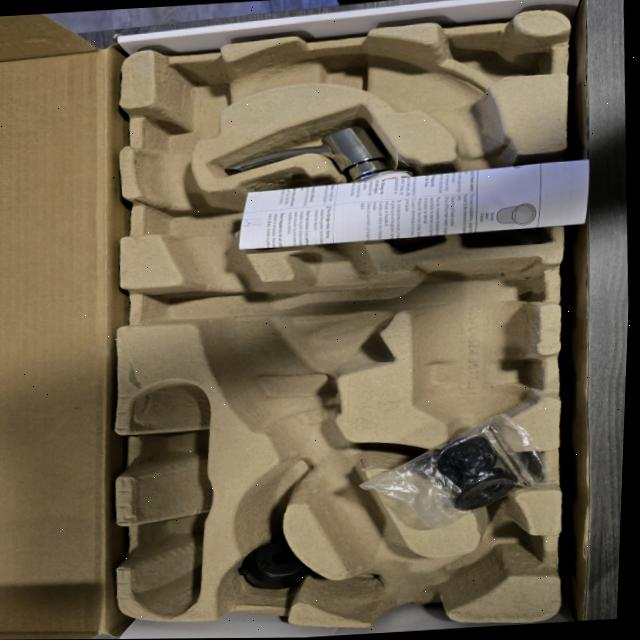1m: (133, 35, 545, 620)
2o: (223, 123, 442, 248)
3m: (413, 260, 545, 452)
4m: (134, 380, 211, 618)
5: (235, 542, 306, 589)
6m: (436, 513, 545, 595)
7: (354, 412, 550, 533)
8: (237, 158, 592, 248)
